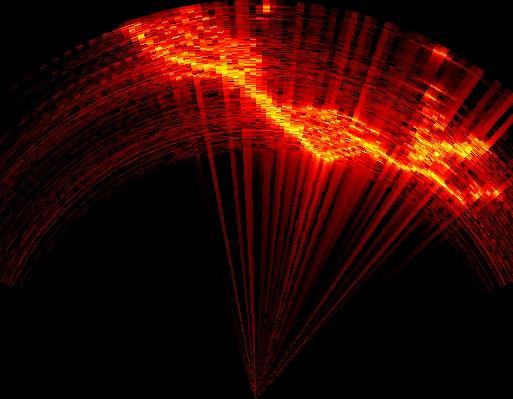shipwreck: (128, 0, 508, 206)
